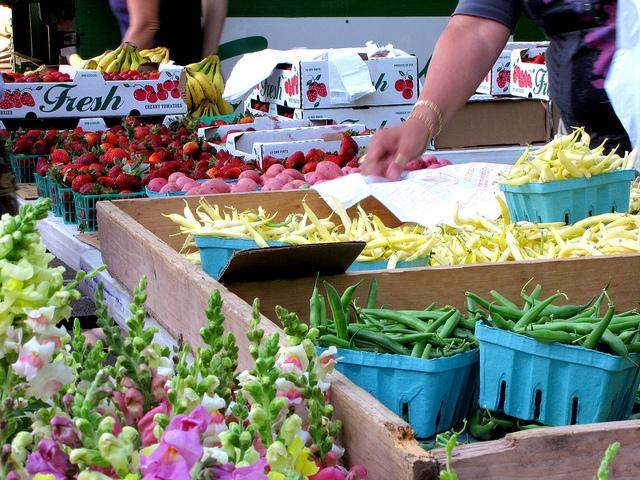banana: (212, 56, 234, 116), (69, 49, 114, 68), (105, 42, 127, 74), (120, 44, 130, 74), (144, 48, 166, 60), (150, 50, 166, 63), (200, 101, 210, 118), (128, 51, 138, 66), (161, 49, 170, 64), (212, 103, 222, 116), (144, 56, 152, 61)
green bean: (514, 322, 638, 366), (464, 291, 596, 322), (326, 324, 412, 356), (580, 288, 615, 350), (514, 290, 568, 330), (322, 280, 350, 341), (552, 308, 638, 324), (590, 277, 612, 318), (423, 338, 479, 354), (359, 310, 448, 320), (362, 313, 396, 336), (438, 310, 461, 339), (310, 272, 321, 329), (391, 332, 436, 345), (608, 321, 640, 333), (456, 319, 476, 332), (426, 338, 446, 348), (344, 308, 352, 326), (390, 323, 410, 330), (548, 318, 571, 322)
potato: (260, 163, 286, 186), (315, 161, 344, 180), (200, 178, 231, 194), (282, 168, 306, 182), (305, 172, 327, 186), (238, 170, 259, 184), (176, 176, 197, 190), (148, 178, 168, 192), (405, 156, 424, 170), (159, 182, 180, 194), (274, 173, 294, 184), (168, 172, 186, 184), (423, 155, 438, 169), (238, 178, 258, 188), (260, 183, 284, 191), (181, 182, 200, 192), (265, 177, 286, 186), (230, 186, 256, 192), (438, 159, 453, 167), (282, 183, 299, 190), (312, 179, 330, 185)
strawberry: (338, 136, 359, 166), (74, 146, 102, 166), (72, 168, 95, 192), (102, 148, 132, 166), (282, 151, 306, 173), (115, 174, 142, 192), (128, 122, 150, 139), (149, 167, 171, 183), (206, 153, 226, 170), (76, 133, 102, 146), (188, 166, 211, 180), (50, 148, 70, 164), (158, 146, 177, 162), (12, 140, 33, 154), (99, 187, 119, 201), (160, 161, 181, 174), (224, 166, 243, 180), (262, 156, 278, 172), (20, 91, 36, 107), (304, 148, 322, 162), (42, 132, 63, 144), (101, 132, 118, 146), (24, 130, 42, 143), (36, 157, 48, 176), (96, 176, 115, 188), (106, 165, 122, 179), (30, 142, 48, 154), (302, 162, 319, 174), (89, 164, 106, 176), (106, 125, 126, 135), (315, 82, 327, 98), (326, 156, 342, 168), (96, 145, 108, 161), (160, 134, 173, 148), (124, 120, 142, 130), (243, 159, 260, 169), (184, 142, 198, 154), (148, 152, 162, 164), (149, 123, 164, 134), (198, 152, 214, 162), (184, 154, 194, 170), (217, 151, 234, 160), (206, 167, 218, 179), (214, 168, 228, 178), (42, 74, 59, 82), (67, 132, 80, 142), (496, 75, 506, 88), (168, 132, 181, 142), (144, 134, 162, 141), (357, 130, 376, 136), (210, 119, 226, 126), (91, 172, 102, 182), (149, 70, 160, 80), (177, 123, 186, 135), (174, 152, 184, 162), (50, 144, 59, 154), (242, 166, 260, 171), (535, 54, 545, 63), (115, 130, 126, 138), (134, 74, 148, 80), (221, 133, 228, 143), (59, 76, 70, 82), (518, 78, 524, 88), (80, 166, 90, 172), (180, 172, 190, 178), (14, 78, 28, 82), (12, 91, 21, 97), (3, 78, 13, 83), (498, 70, 506, 76), (103, 76, 114, 80), (522, 58, 533, 62), (286, 65, 292, 71), (133, 140, 140, 144), (126, 78, 134, 80)
